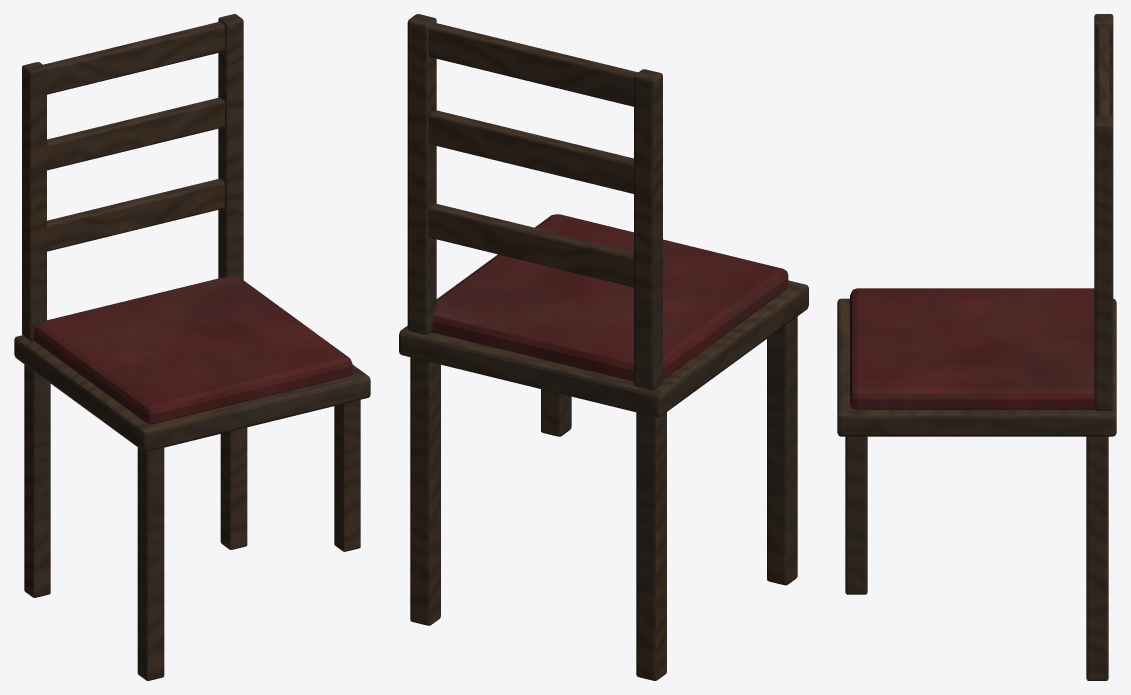
File: L11_dining_chair_v3.glb
3 views of the same model, side by side, from view 1: azimuth 30°, elevation 25°; view 2: azimuth 150°, elevation 25°; view 3: azimuth 270°, elevation 25° (orthographic). The views are drawn at different scales.
Parts seen in each view (by area): view 1: L11_dining_chair_v3; view 2: L11_dining_chair_v3; view 3: L11_dining_chair_v3.
Boxes of the visible parts, x1,y1,x2,y2 form: L11_dining_chair_v3: (14,14,370,680); L11_dining_chair_v3: (399,14,808,680); L11_dining_chair_v3: (837,14,1116,680).
Size of the model in its own units: 0.4082 by 0.9 by 0.4082.
2 materials, 2 textured.
